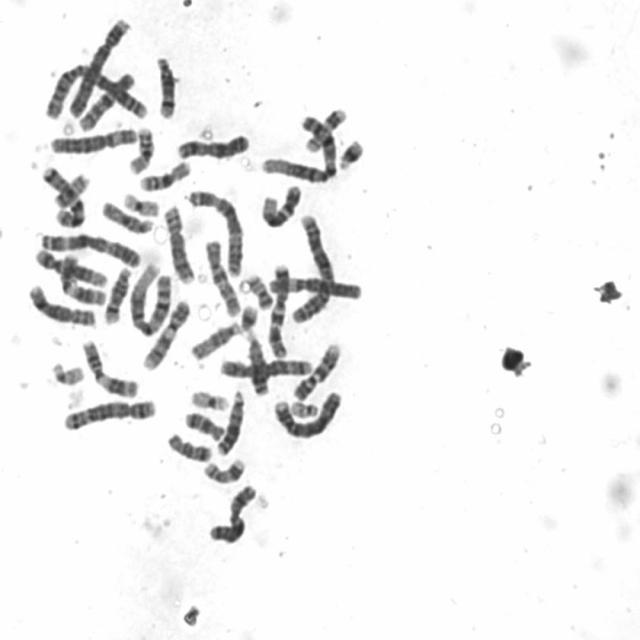A1: (257, 102, 343, 185), (125, 257, 174, 338)
A2: (39, 57, 148, 122), (286, 208, 338, 325)
A3: (184, 183, 246, 278), (34, 225, 143, 269)
B4: (62, 10, 132, 119), (268, 384, 345, 441)
B5: (58, 392, 160, 432), (215, 352, 315, 381)
C10: (75, 66, 137, 133), (200, 232, 243, 318)
C11: (76, 332, 142, 400), (53, 245, 108, 307)
C12: (30, 242, 110, 289), (257, 178, 305, 228)
C6: (264, 269, 365, 302), (46, 120, 140, 155)
C7: (36, 159, 88, 229), (264, 256, 293, 360)
C8: (23, 277, 99, 328), (160, 198, 198, 286)
C9: (137, 293, 194, 372), (288, 336, 344, 402)
D13: (212, 383, 248, 456), (241, 326, 272, 398)
D14: (99, 260, 134, 326), (150, 48, 180, 120)
D15: (186, 315, 244, 361), (96, 194, 156, 236)
E16: (134, 154, 194, 192), (124, 120, 157, 176)
E17: (299, 100, 350, 155), (198, 452, 248, 485)
E18: (163, 426, 215, 463), (180, 405, 227, 441)
F19: (118, 185, 162, 218), (186, 383, 232, 412)
F20: (50, 168, 92, 208), (239, 267, 276, 311)
G21: (334, 132, 367, 171), (236, 298, 261, 334)
G22: (46, 355, 88, 387), (286, 394, 322, 419)
X: (204, 478, 260, 545), (172, 127, 252, 161)
